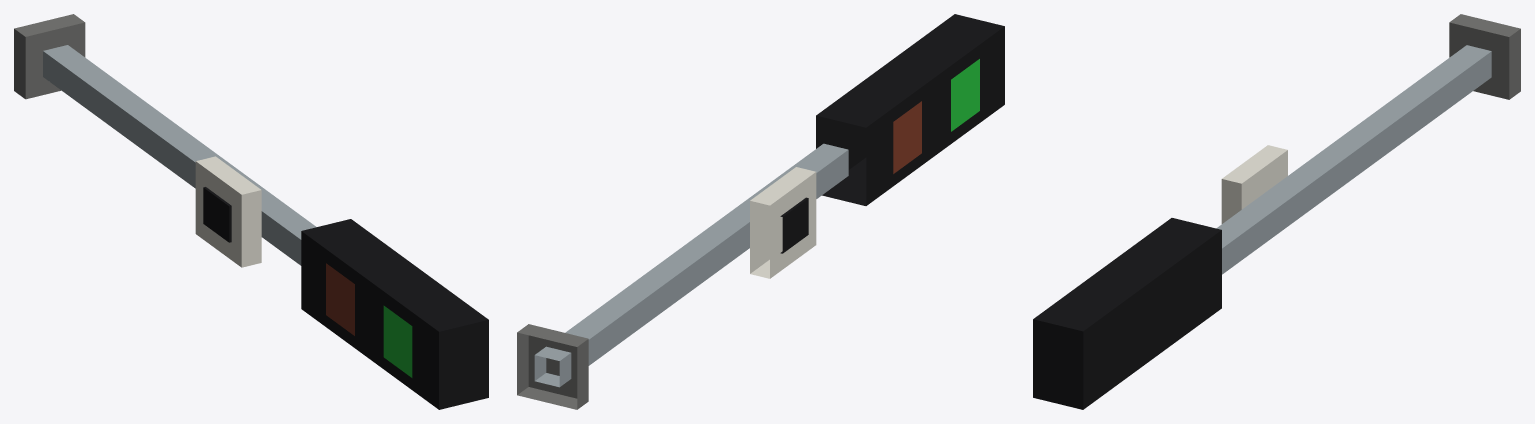
The model's file is green.glb.
3 renders of one model, left to right at view 1: azimuth 30°, elevation 25°; view 2: azimuth 150°, elevation 25°; view 3: azimuth 330°, elevation 25°, orthographic.
Parts seen in each view (by area): view 1: signal_electric_exit_green; view 2: signal_electric_exit_green; view 3: signal_electric_exit_green.
Boxes of the visible parts, bbox=[...] form: signal_electric_exit_green: bbox=[14, 14, 488, 409]; signal_electric_exit_green: bbox=[517, 14, 1004, 409]; signal_electric_exit_green: bbox=[1033, 14, 1520, 409].
Bounding box in the file's own units: 1.35 × 1.5 × 14.8.
